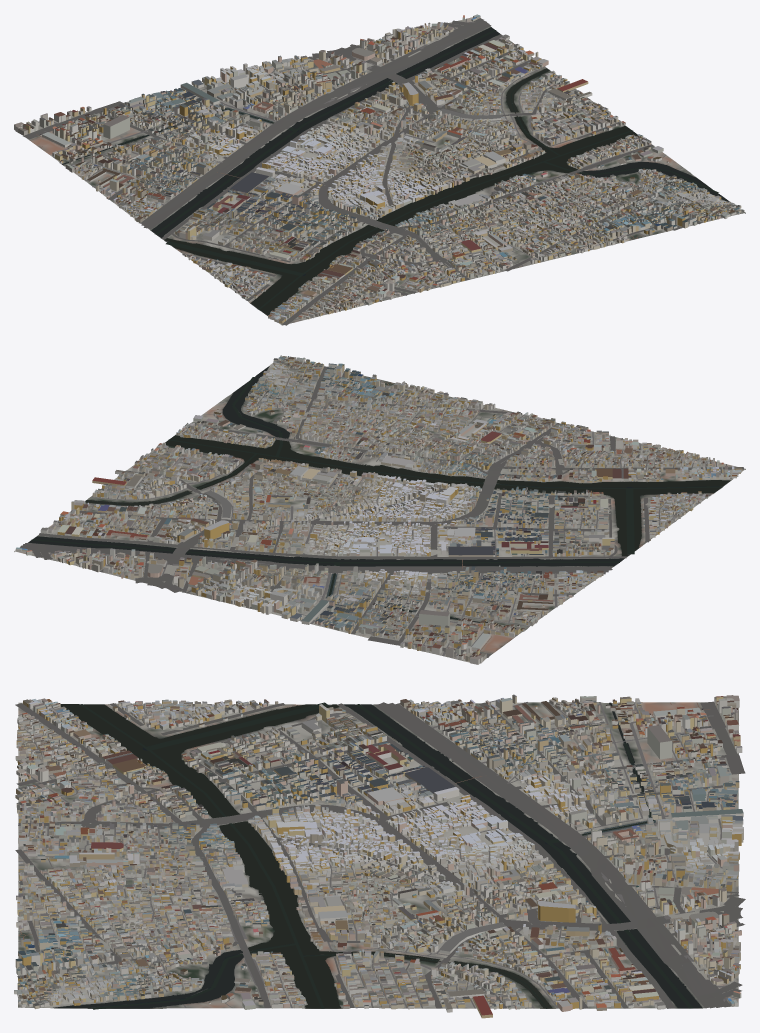
3 views of the same model, one above another, from view 1: azimuth 30°, elevation 25°; view 2: azimuth 150°, elevation 25°; view 3: azimuth 270°, elevation 25° (orthographic). The views are drawn at different scales.
Parts seen in each view (by area): view 1: buildings, ground, roads, water; view 2: buildings, ground, roads, water; view 3: buildings, ground, roads, water.
Part boxes in pixels (x1=…): buildings: x1=14, y1=14, x2=744, y2=323; ground: x1=22, y1=17, x2=745, y2=325; roads: x1=23, y1=18, x2=735, y2=325; water: x1=62, y1=27, x2=730, y2=315; buildings: x1=15, y1=355, x2=742, y2=664; ground: x1=14, y1=356, x2=745, y2=662; roads: x1=20, y1=361, x2=743, y2=657; water: x1=28, y1=366, x2=730, y2=629; buildings: x1=14, y1=694, x2=743, y2=1018; ground: x1=18, y1=702, x2=738, y2=1008; roads: x1=15, y1=701, x2=745, y2=1008; water: x1=53, y1=702, x2=702, y2=1009.
Bounding box in the file's own units: 1453 × 43.11 × 1423.
